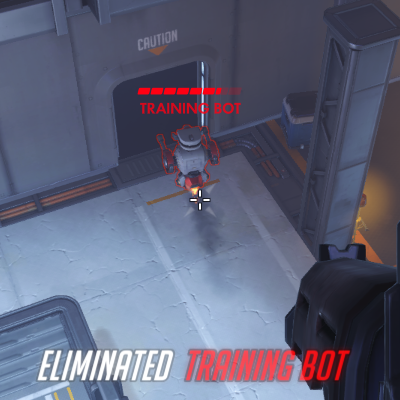hpbar: (137, 87, 241, 95)
